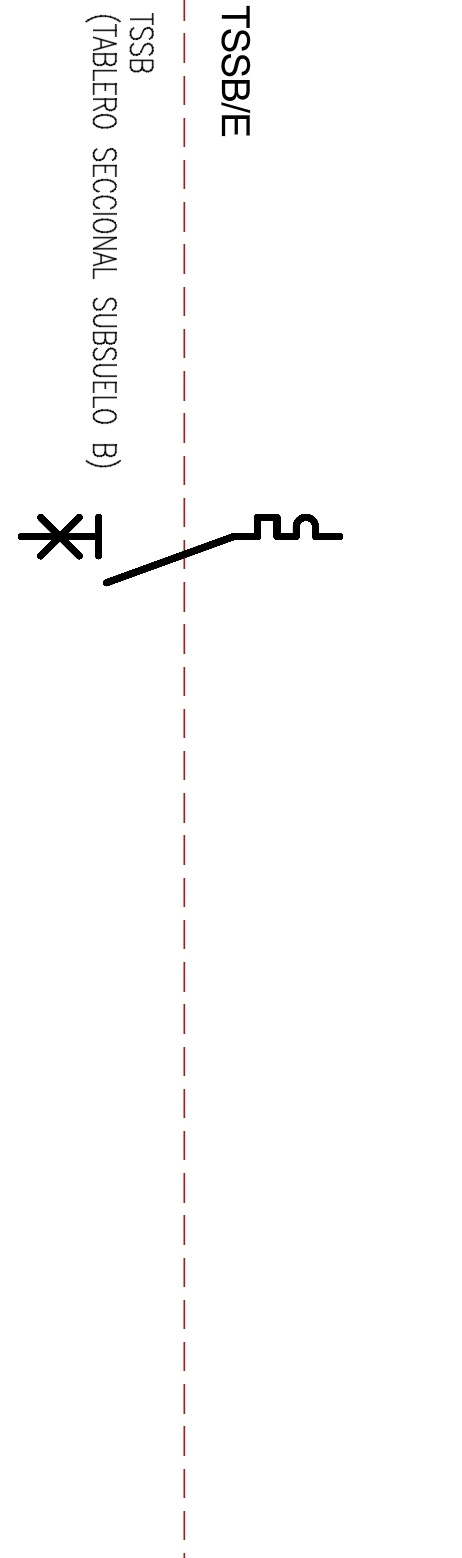interruptor_termomagnetico: (13, 509, 348, 591)
